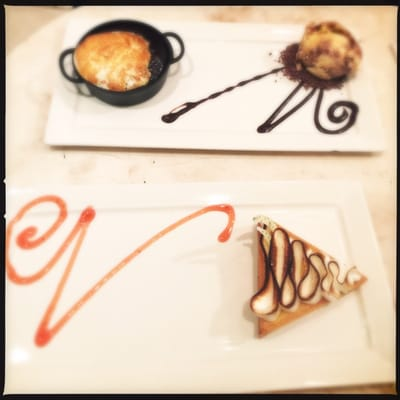sushi: (59, 19, 186, 107)
